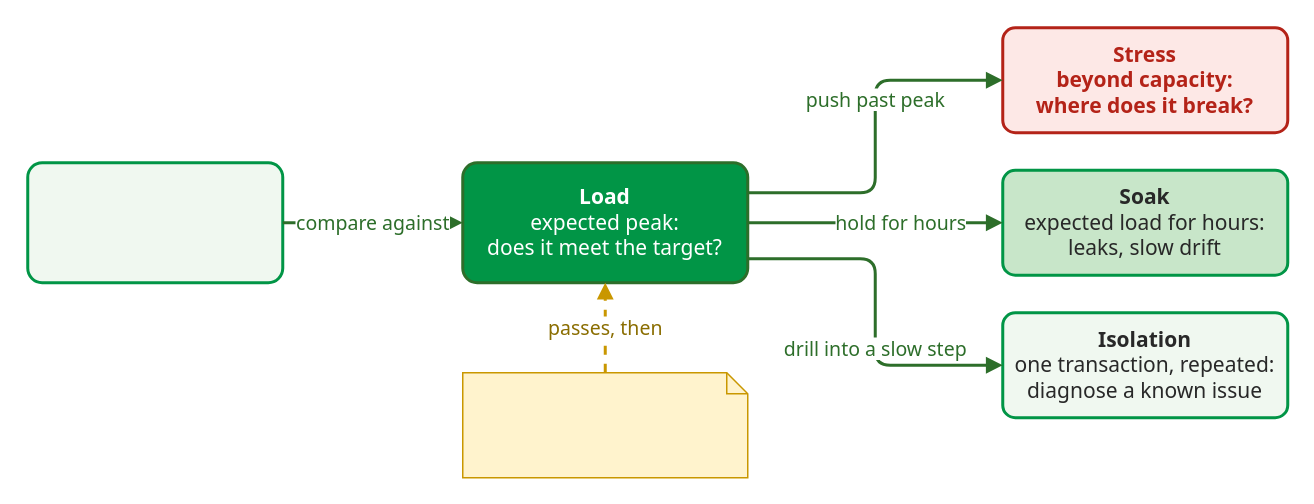
Image size: 1314x504. Some labels were removed from this diagram. The centre of each missing label's shape, as x and y in pixels:
Baseline 1 user, best case: the yardstick: the point at 155,222
Smoke changed code only: quick gate per build: the point at 604,424
